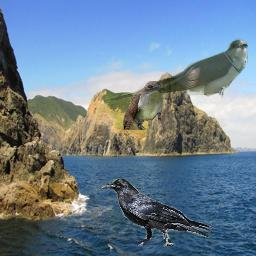Crow: (101, 178, 217, 249)
Cuckoo: (105, 38, 248, 103), (123, 81, 165, 130)
